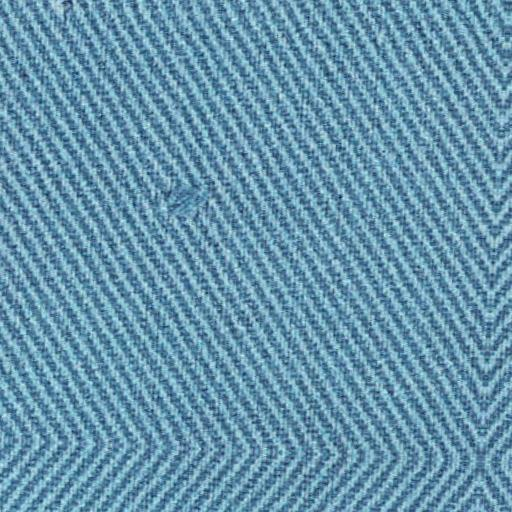knot: (155, 177, 224, 232)
